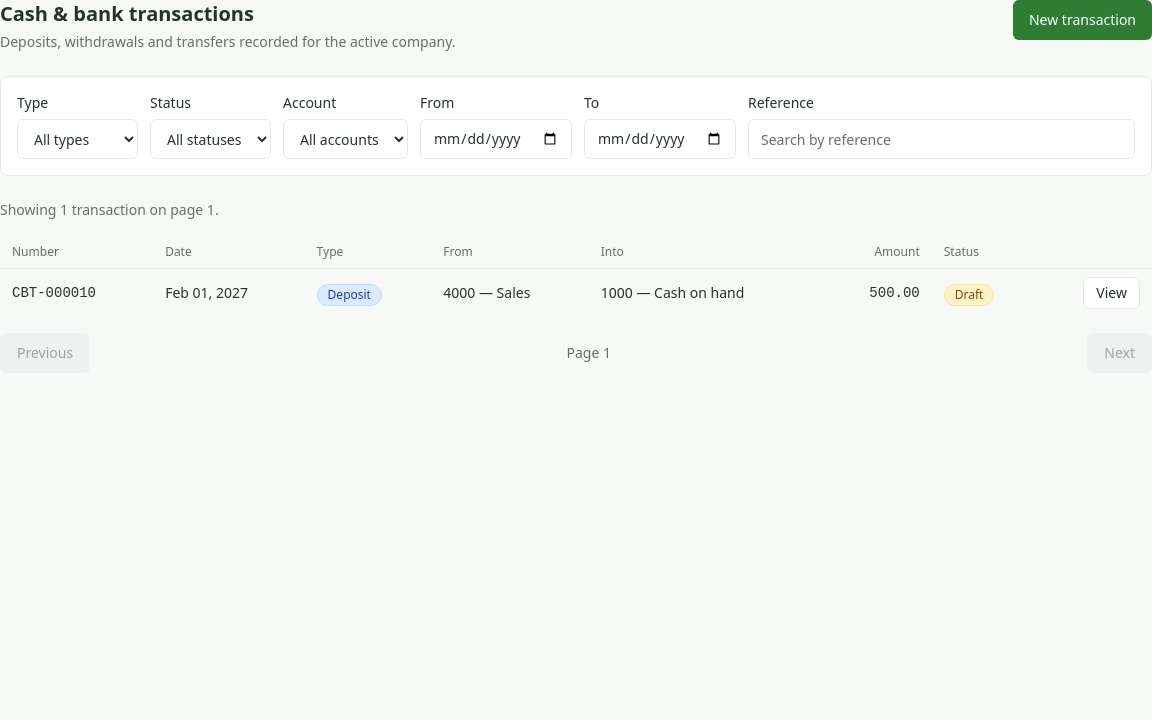
Test: CashBankTransactionsView › opens the create dialog from the header action
Click the button "New transaction" at (1082, 20), box [1013,0,1151,40]
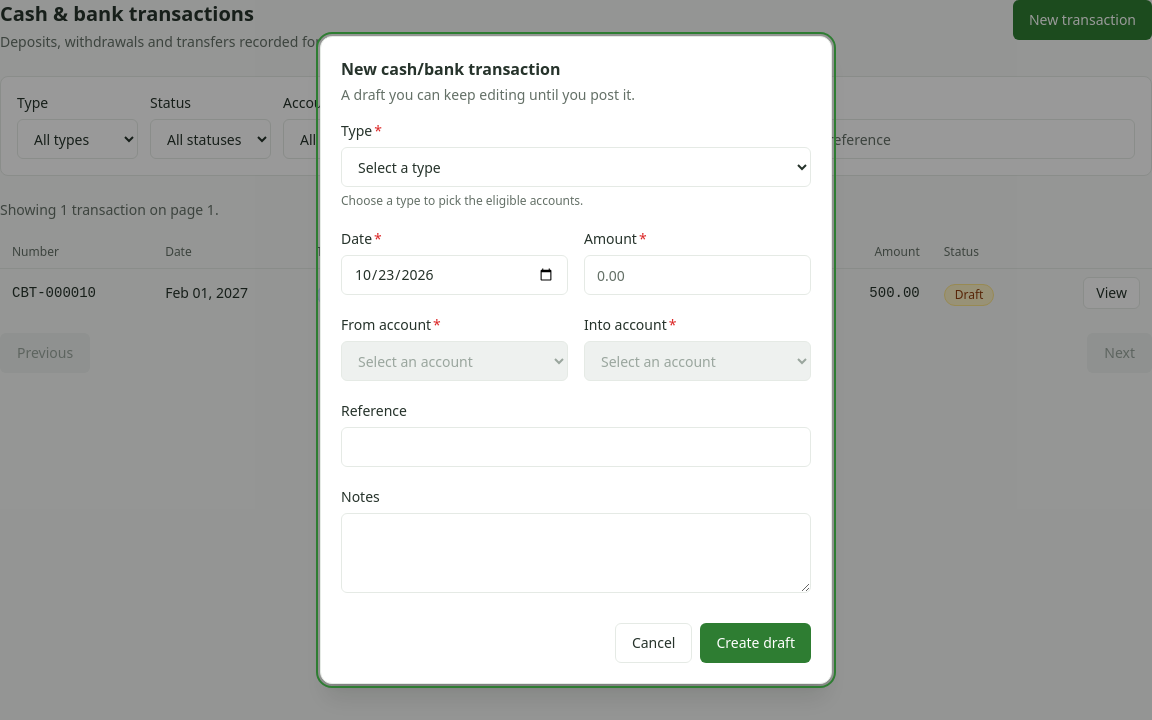
Now the dialog "New cash/bank transaction" is shown, box [320,36,832,684]
